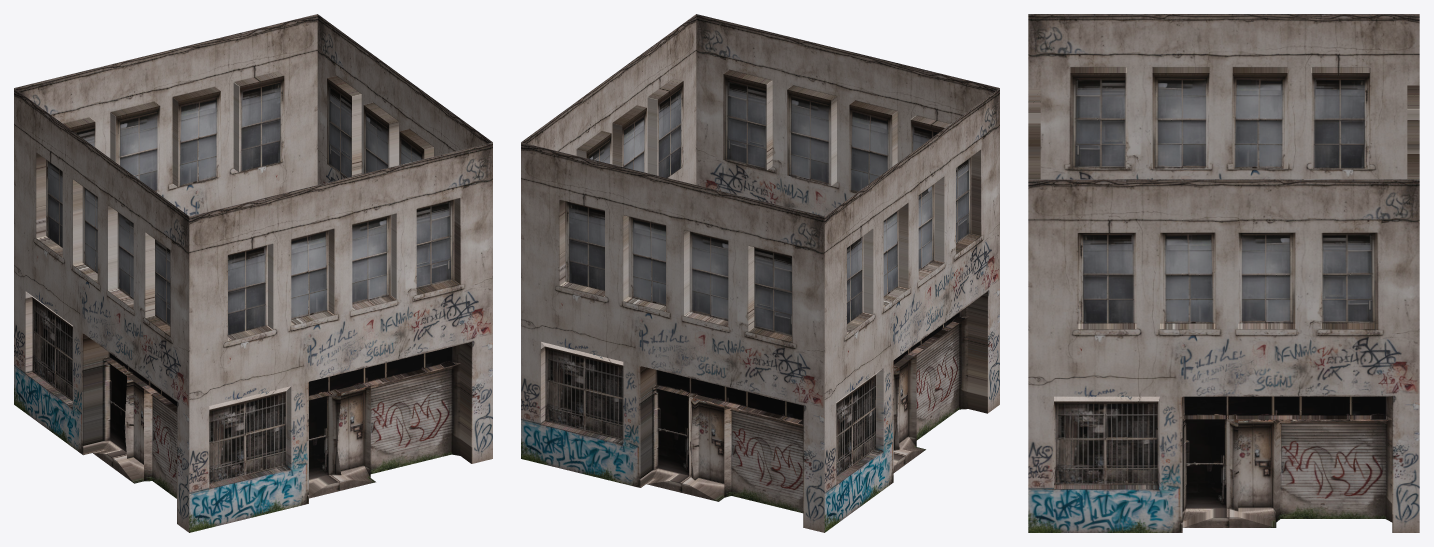
File: old bulding.fbx
3 renders of one model, left to right at view 1: azimuth 30°, elevation 25°; view 2: azimuth 150°, elevation 25°; view 3: azimuth 270°, elevation 25°, orthographic. The views are drawn at different scales.
Visible parts, largest first — view 1: old_bulding; view 2: old_bulding; view 3: old_bulding.
Part boxes in pixels (box(x1,y1,x2,y2)): old_bulding: box(14, 14, 492, 532); old_bulding: box(521, 14, 999, 532); old_bulding: box(1028, 14, 1419, 532).
Bounding box in the file's own units: 904 × 901 × 904.
2 materials, 2 textured.
